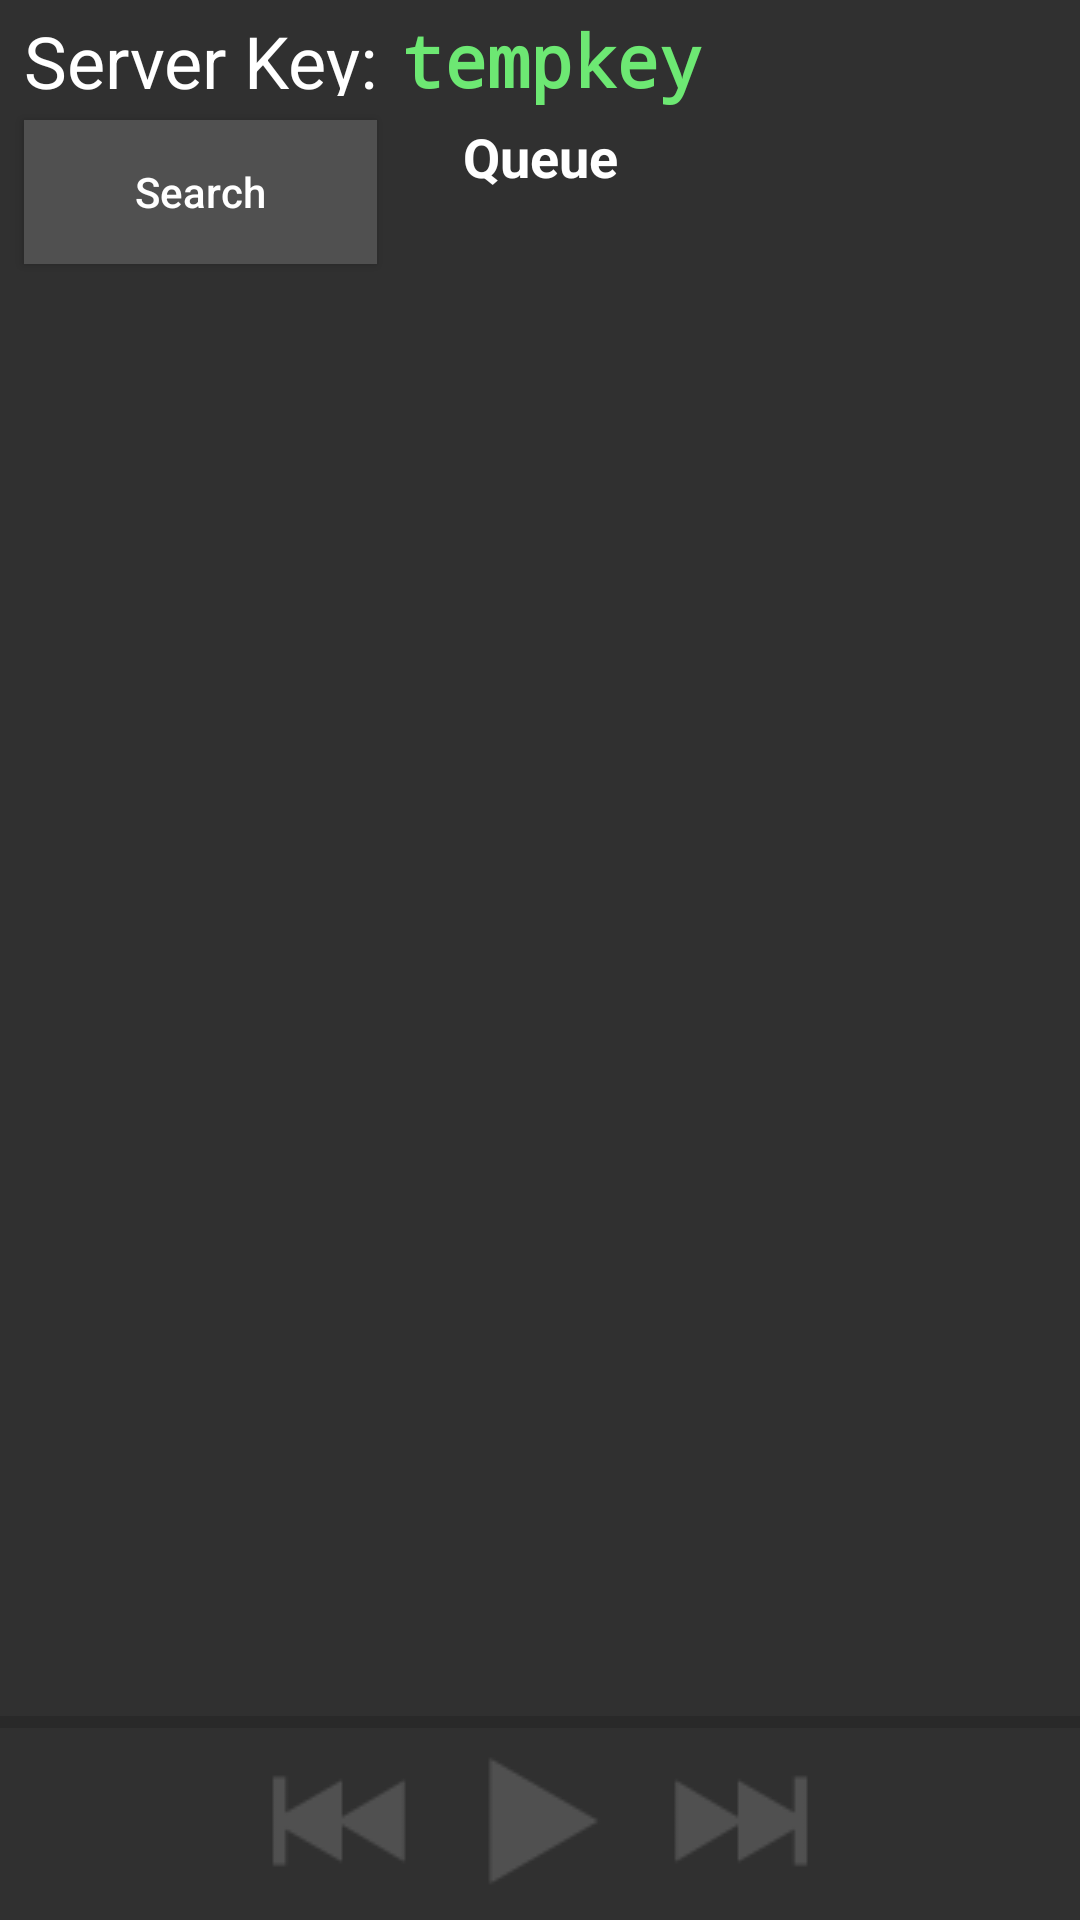

Icon bounding boxes for this 1080px x 1920px phone screenshot, format (x1, y1, x2, y2):
back animation: (274, 1779, 404, 1863)
forward animation: (676, 1779, 806, 1863)
play to pause animation: (491, 1762, 594, 1880)
